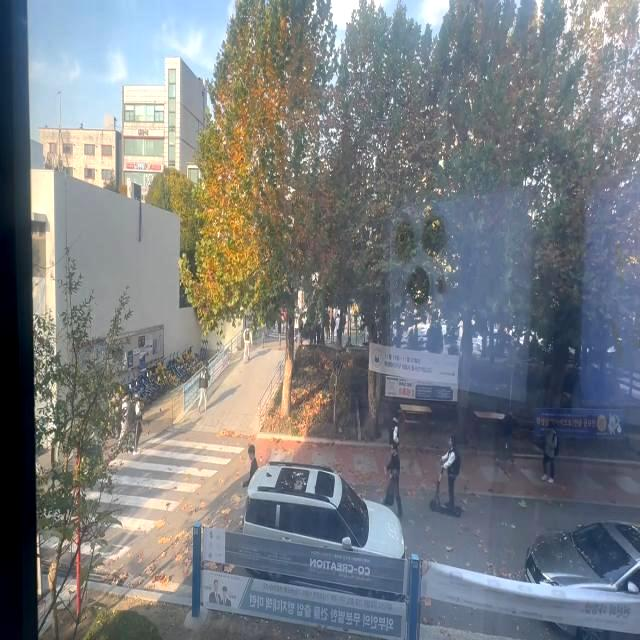bare_head: (444, 432, 458, 454)
human: (443, 431, 460, 508)
kickboard: (428, 496, 472, 522)
